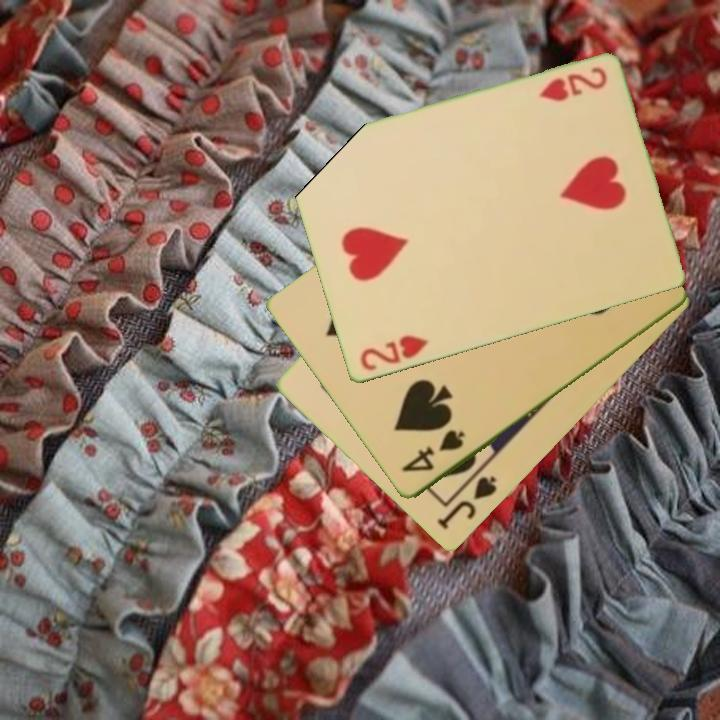2h: (356, 332, 431, 374), (535, 64, 610, 105)
4s: (398, 426, 468, 476)
Js: (433, 472, 500, 533)
